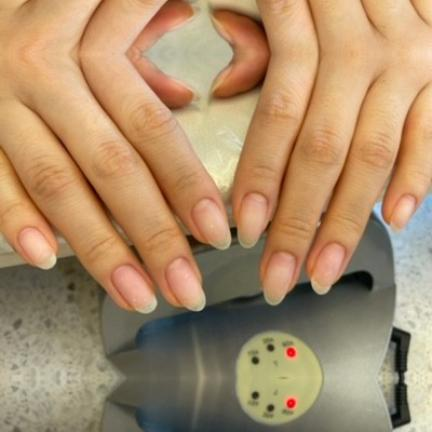Nail: (112, 264, 158, 315), (166, 258, 206, 312), (192, 198, 231, 250), (263, 251, 297, 305), (311, 243, 346, 294), (237, 191, 267, 248), (18, 227, 57, 269), (390, 194, 417, 229), (211, 65, 232, 91), (211, 17, 232, 43)
